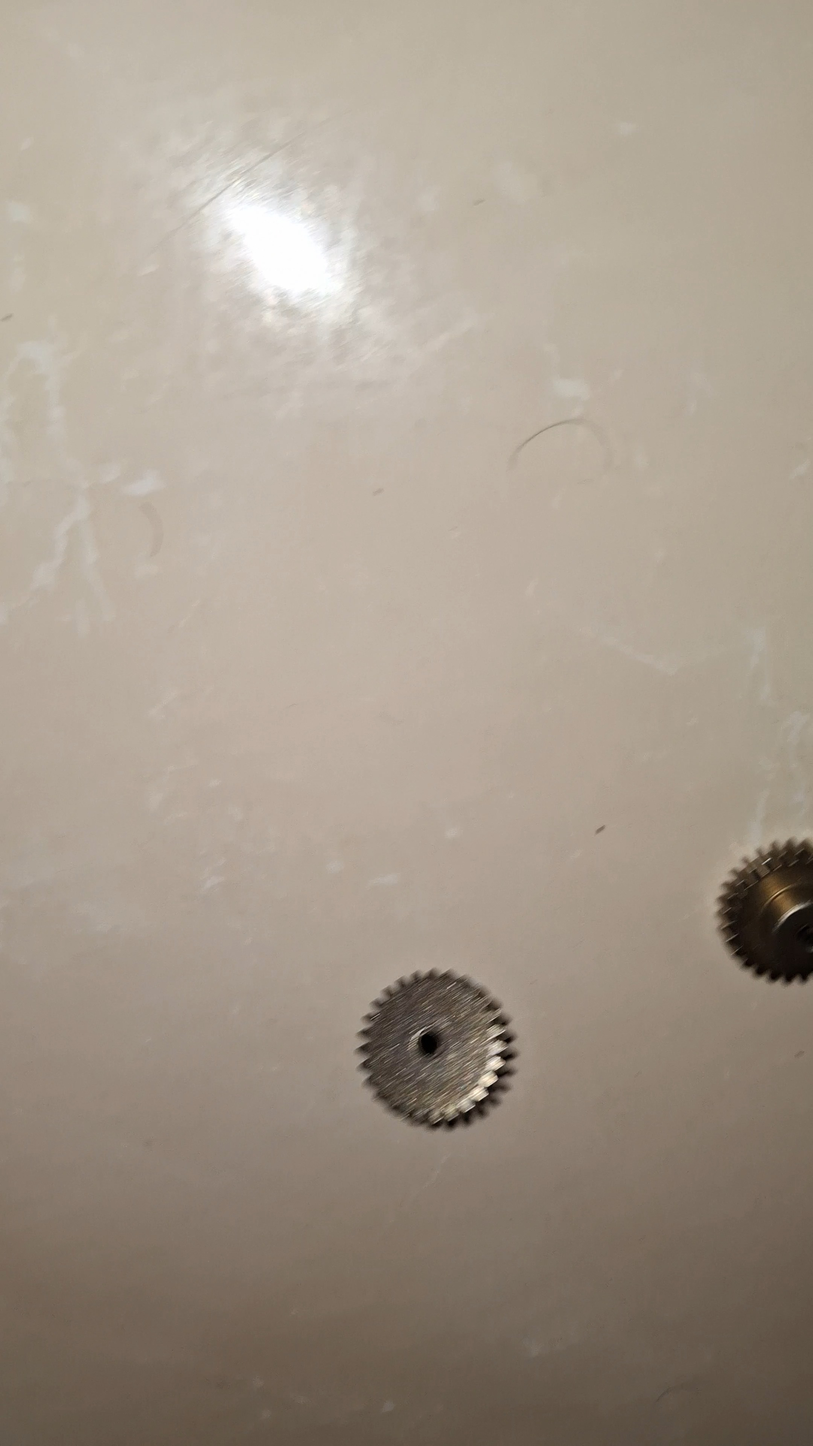spur gear: (359, 971, 513, 1126), (718, 840, 813, 982)
